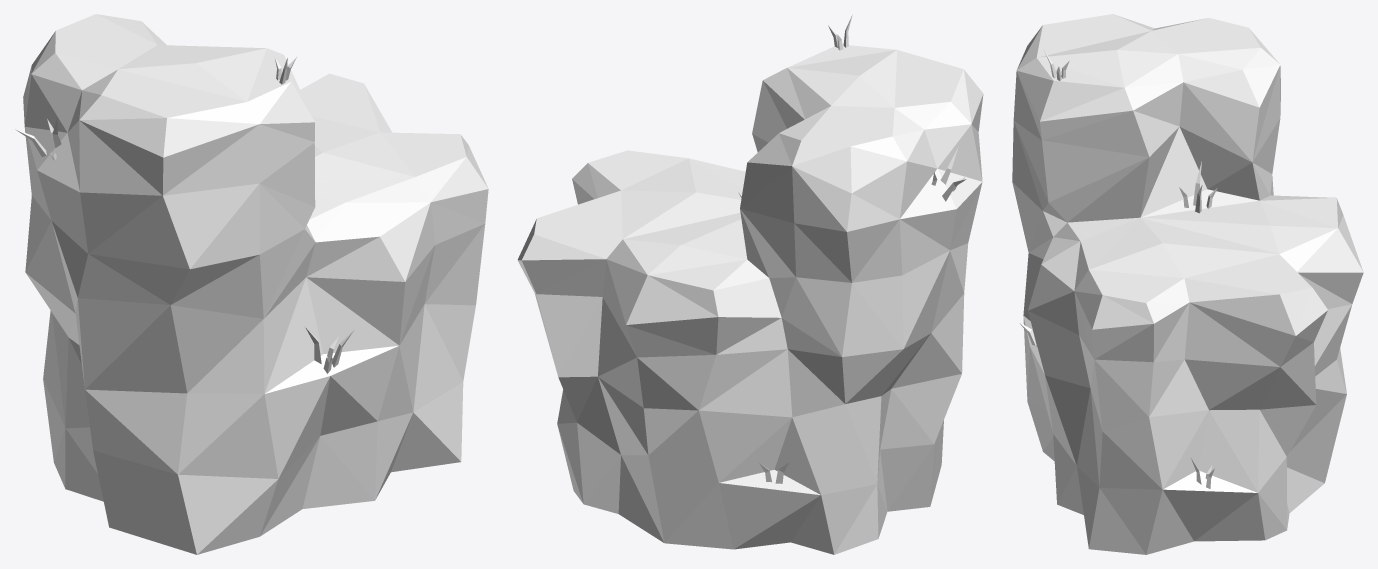
File: Low_poly_Cliff.glb
3 views of the same model, side by side, from view 1: azimuth 30°, elevation 25°; view 2: azimuth 150°, elevation 25°; view 3: azimuth 270°, elevation 25° (orthographic). The views are drawn at different scales.
Visible parts, largest first — view 1: unnamed; view 2: unnamed; view 3: unnamed.
Boxes of the visible parts, x1=… form: unnamed: x1=15, y1=14, x2=488, y2=554; unnamed: x1=517, y1=15, x2=983, y2=554; unnamed: x1=1012, y1=14, x2=1363, y2=554.
Size of the model in its own units: 4.23 by 4.31 by 3.31.
1 material, 1 textured.
